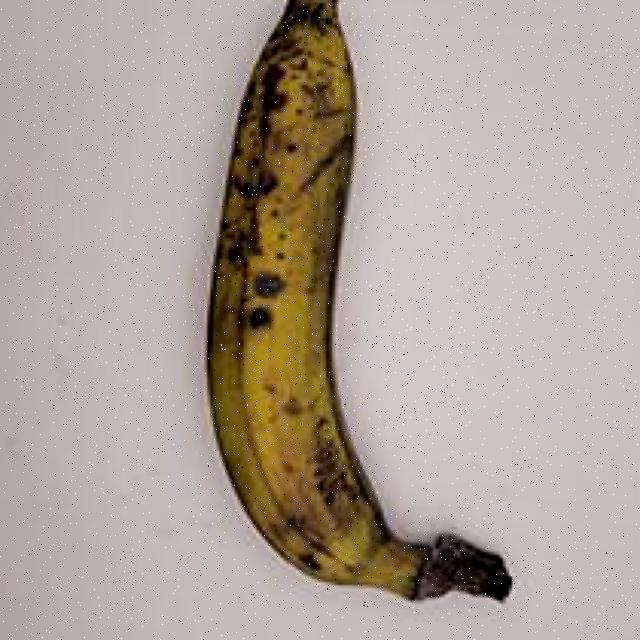Overripe: (137, 0, 524, 616)
